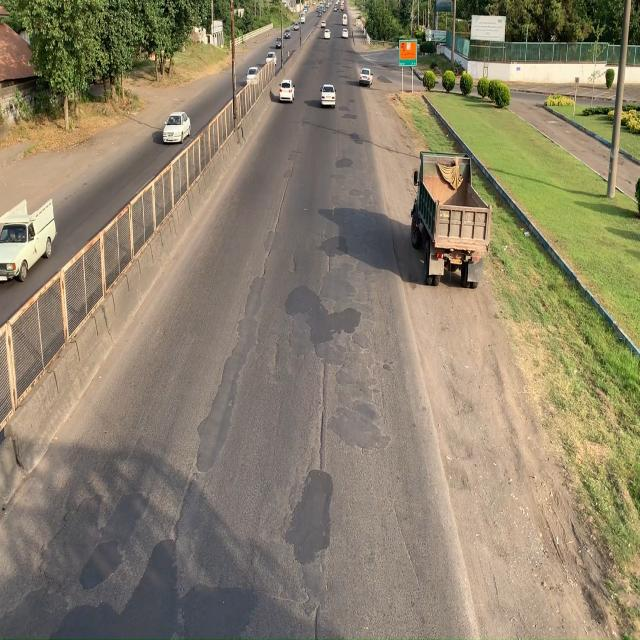Truck: (414, 148, 499, 290)
cars: (0, 197, 54, 283), (162, 109, 192, 146)
